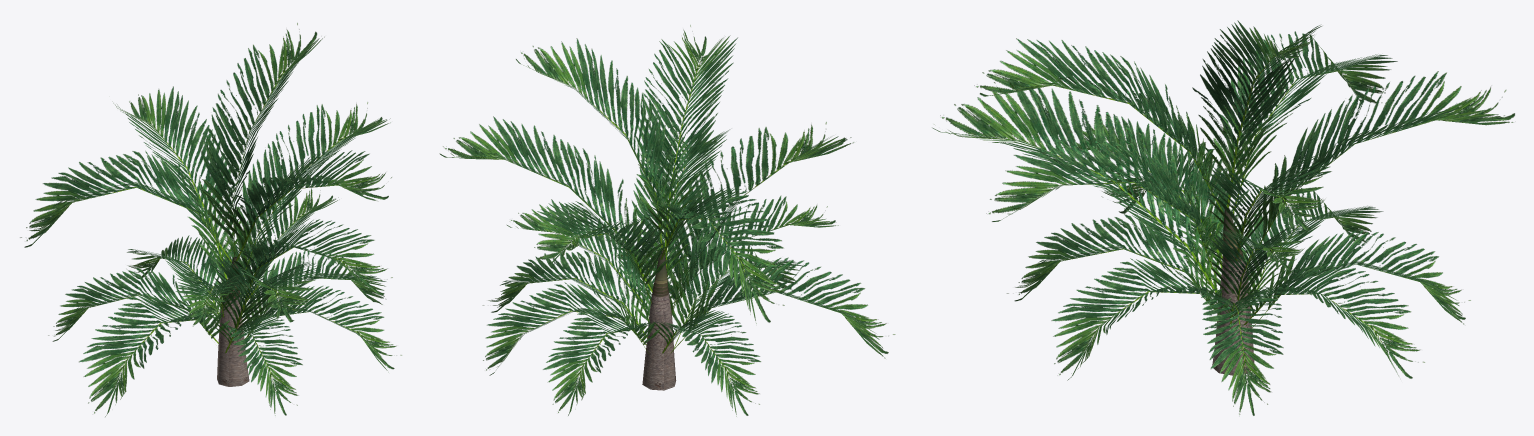
File: beach_palm.glb
3 renders of one model, left to right at view 1: azimuth 30°, elevation 25°; view 2: azimuth 150°, elevation 25°; view 3: azimuth 270°, elevation 25°, orthographic. The views are drawn at different scales.
Parts seen in each view (by area): view 1: BeachPalm256; view 2: BeachPalm256; view 3: BeachPalm256.
Part boxes in pixels (left/top/right/bottom): BeachPalm256: left=20, top=23, right=401, bottom=416; BeachPalm256: left=439, top=25, right=895, bottom=416; BeachPalm256: left=932, top=20, right=1514, bottom=415.
Size of the model in its own units: 2.32 by 1.9 by 2.46.
2 materials, 2 textured.
